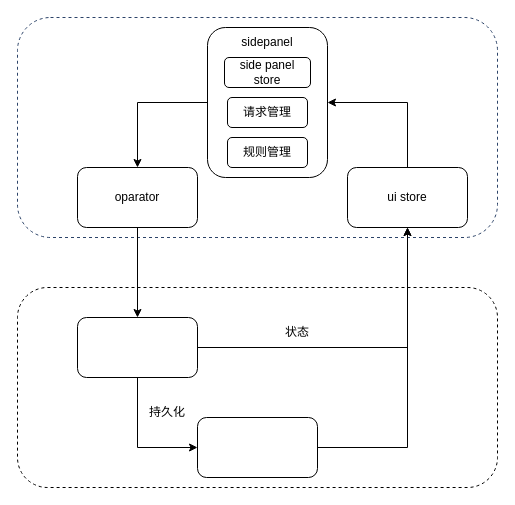
The diagram is 515 pixels wide and 505 high, and some of its shapes have lost their labels. Each missing label, with the box of its shape:
modal: (196, 416, 318, 478)
rule: (76, 316, 198, 378)
